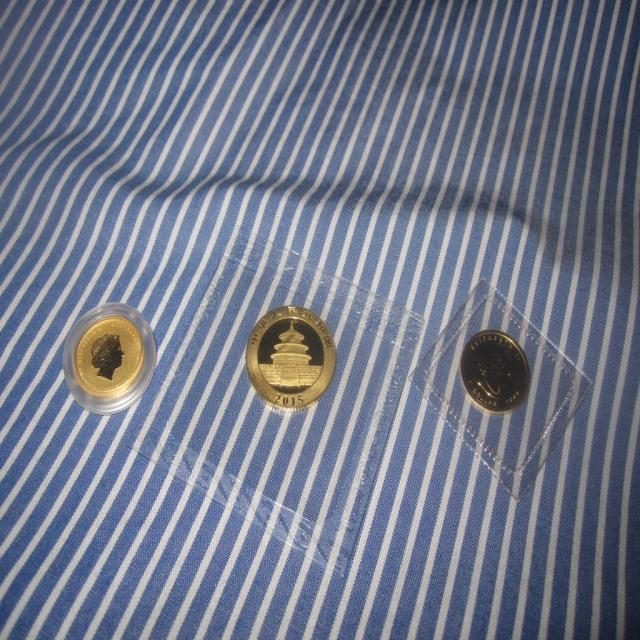Coin: (245, 306, 338, 409), (455, 332, 531, 413), (72, 315, 144, 398)
